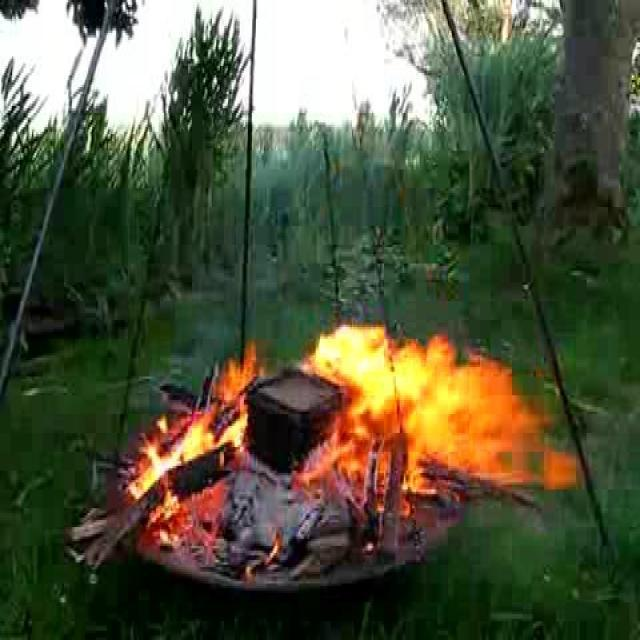Fire: (316, 324, 536, 497)
